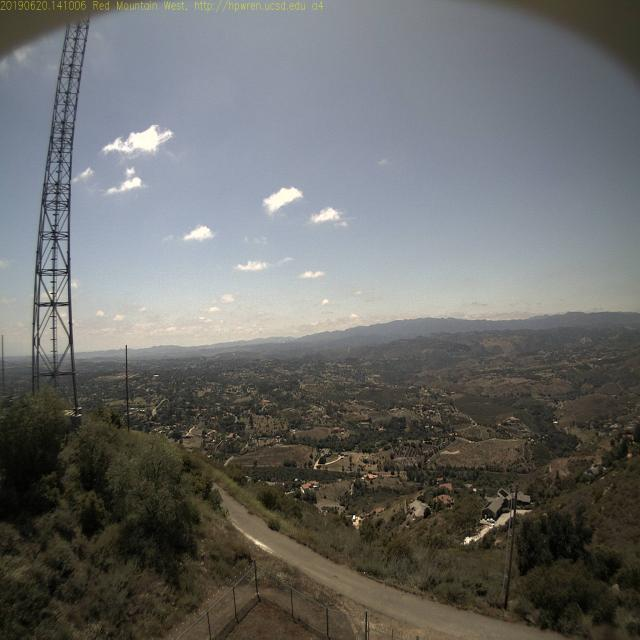smoke: (274, 335, 292, 350)
